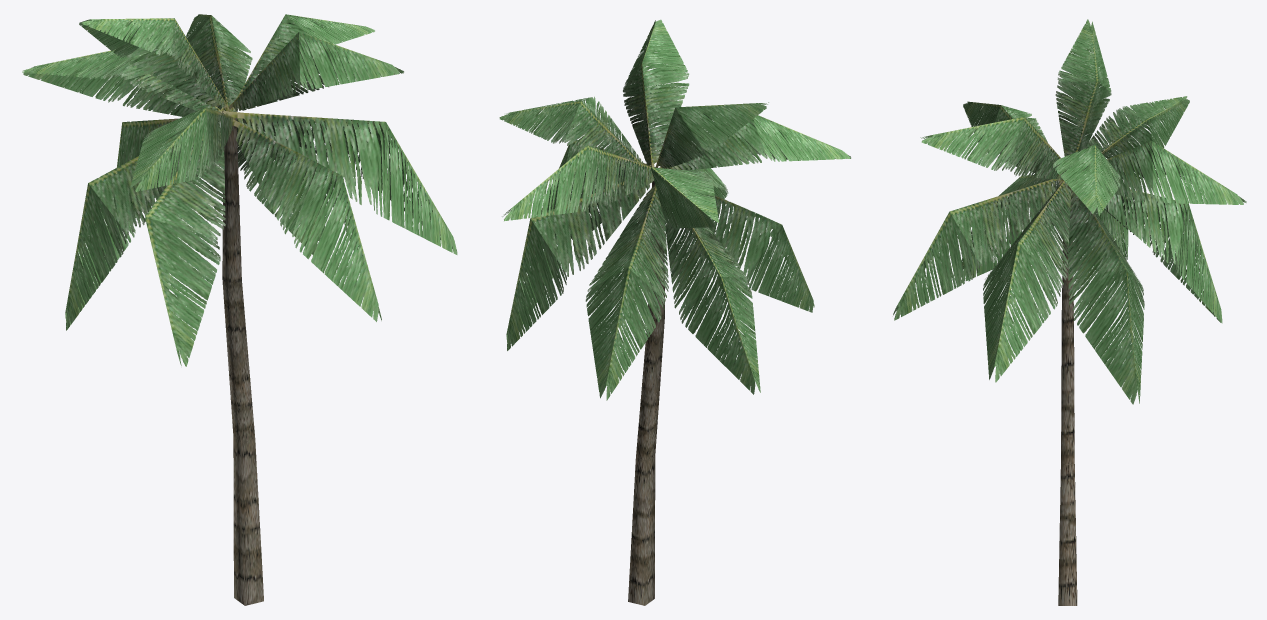
Rendered from T4MPalm.fbx.
The picture shows the model from 3 angles, left to right: view 1: azimuth 30°, elevation 25°; view 2: azimuth 150°, elevation 25°; view 3: azimuth 270°, elevation 25°; orthographic projection. The views are drawn at different scales.
Parts seen in each view (by area): view 1: T4MPlam; view 2: T4MPlam; view 3: T4MPlam.
Boxes of the visible parts, x1,y1,x2,y2 form: T4MPlam: [22, 14, 457, 605]; T4MPlam: [499, 19, 850, 605]; T4MPlam: [893, 19, 1246, 605].
Size of the model in its own units: 5.38 by 8.86 by 5.64.
